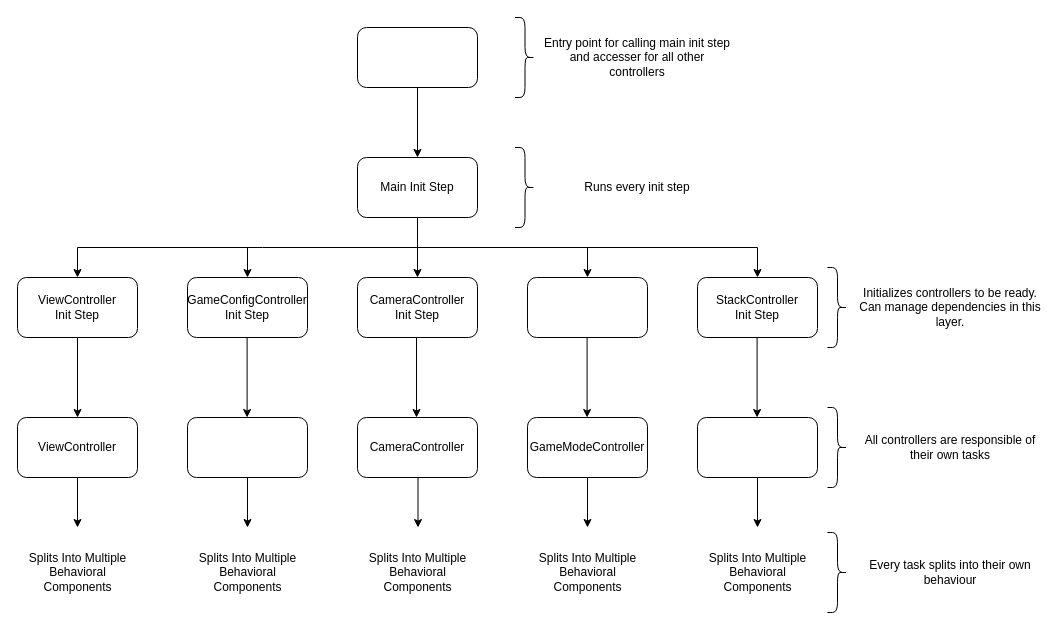
Some shapes in this 1062 by 630 pixel diagram are drawn without their labels. The centre of each missing label's shape, as x and y in pixels:
GameConfigController: (x=247, y=447)
GameController: (x=417, y=57)
GameModeController Init Step: (x=587, y=307)
StackController: (x=757, y=447)
